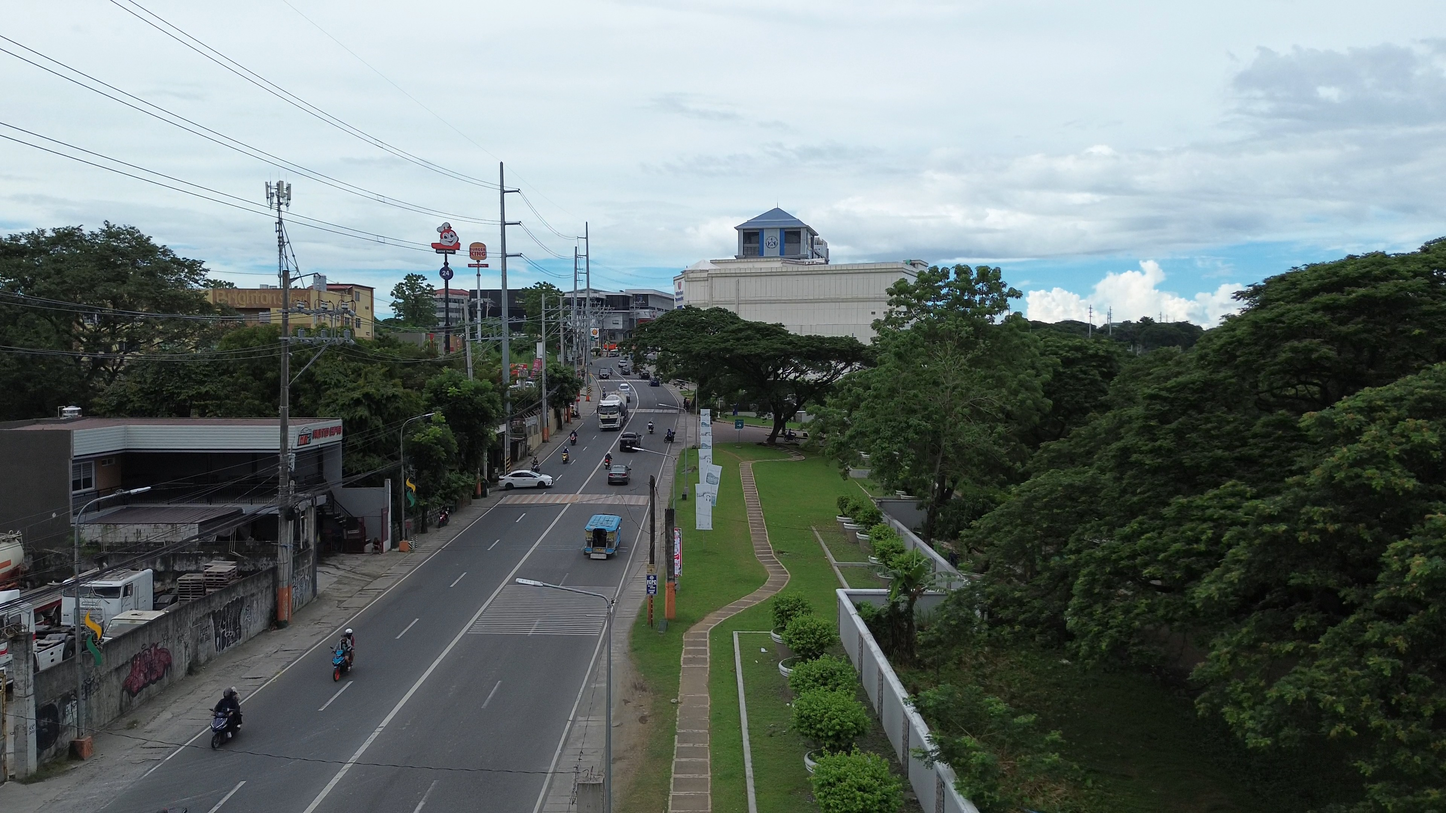car: (500, 469, 553, 489), (649, 376, 660, 387)
motorcycle: (211, 711, 238, 749), (332, 646, 351, 681), (436, 510, 449, 528), (561, 449, 569, 464), (665, 429, 674, 442), (569, 432, 577, 445), (647, 421, 654, 433)
vehicle: (80, 570, 153, 627), (583, 515, 621, 559), (0, 531, 24, 590), (596, 394, 627, 430), (607, 464, 630, 484), (618, 432, 641, 451), (618, 382, 632, 403), (664, 428, 675, 442), (561, 448, 570, 464), (598, 368, 611, 379), (647, 420, 654, 434)
